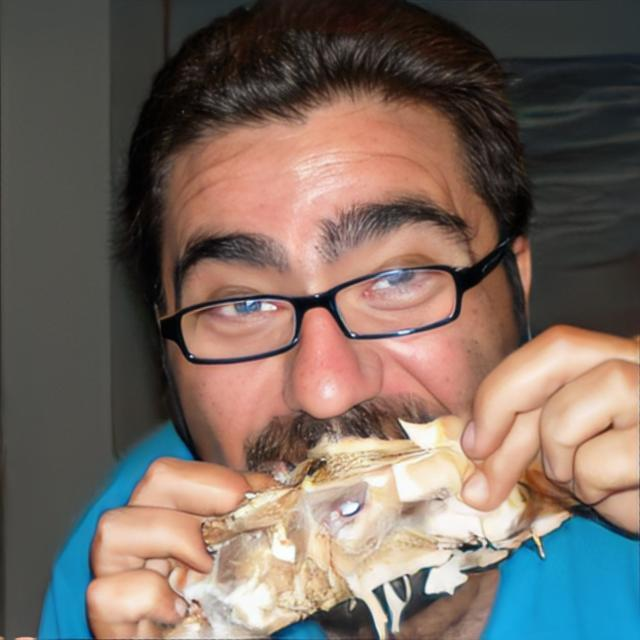surprise: (160, 84, 512, 620)
